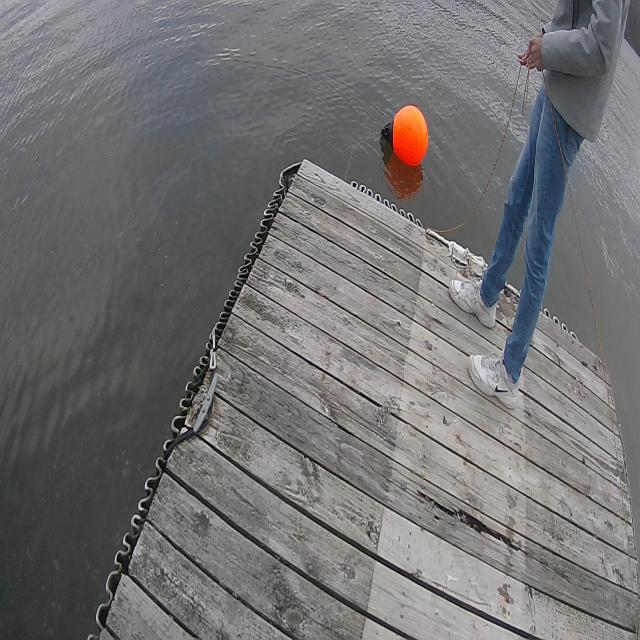Buoy: (372, 88, 440, 179)
